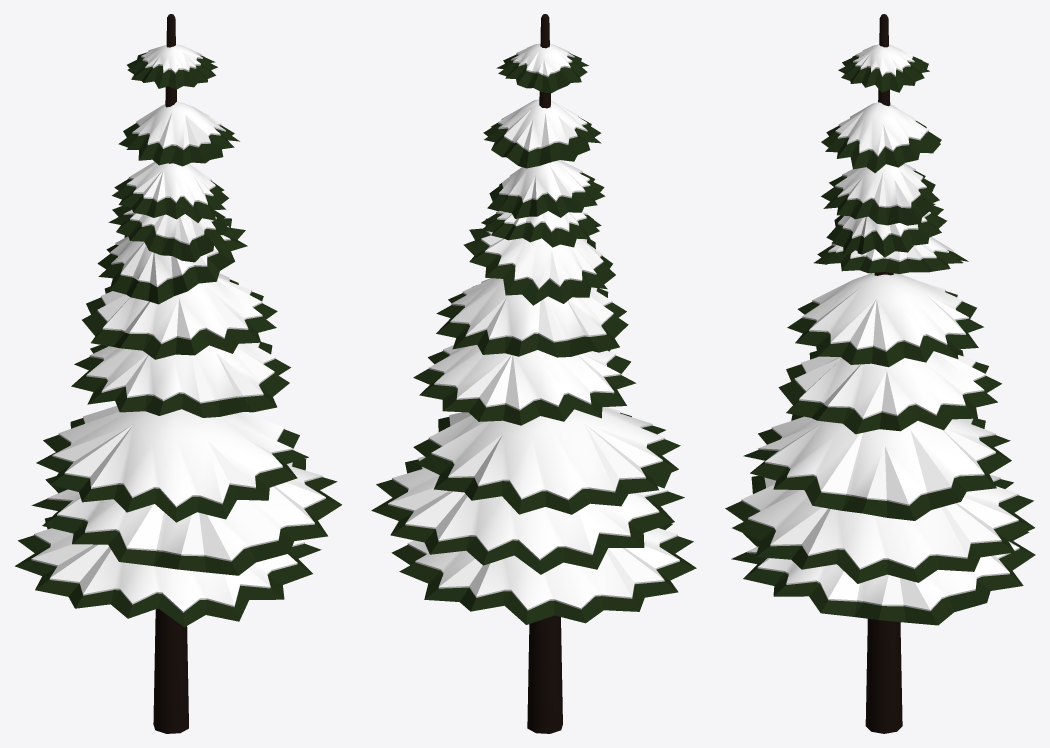
The model's file is s_tree_010.FBX.
3 views of the same model, side by side, from view 1: azimuth 30°, elevation 25°; view 2: azimuth 150°, elevation 25°; view 3: azimuth 270°, elevation 25° (orthographic).
Parts seen in each view (by area): view 1: s_tree_leaves_010 (×2); view 2: s_tree_leaves_010 (×2); view 3: s_tree_leaves_010 (×2).
Part boxes in pixels (x1,y1,x2,y2): s_tree_leaves_010 (×2): [15, 14, 341, 733]; s_tree_leaves_010 (×2): [371, 14, 696, 733]; s_tree_leaves_010 (×2): [725, 14, 1035, 733].
Bounding box in the file's own units: 1.8 × 4.26 × 1.69.
